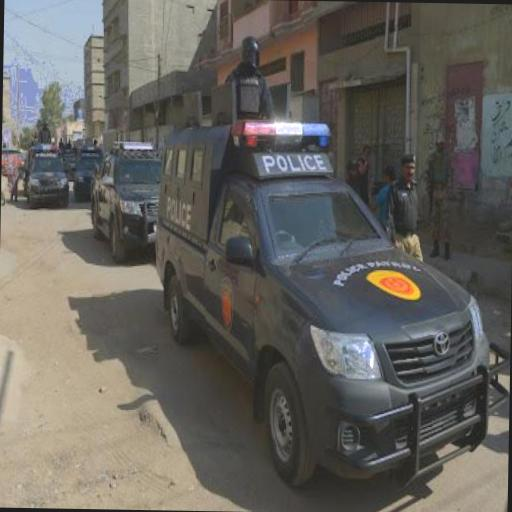Ambulance: (152, 121, 495, 486)
